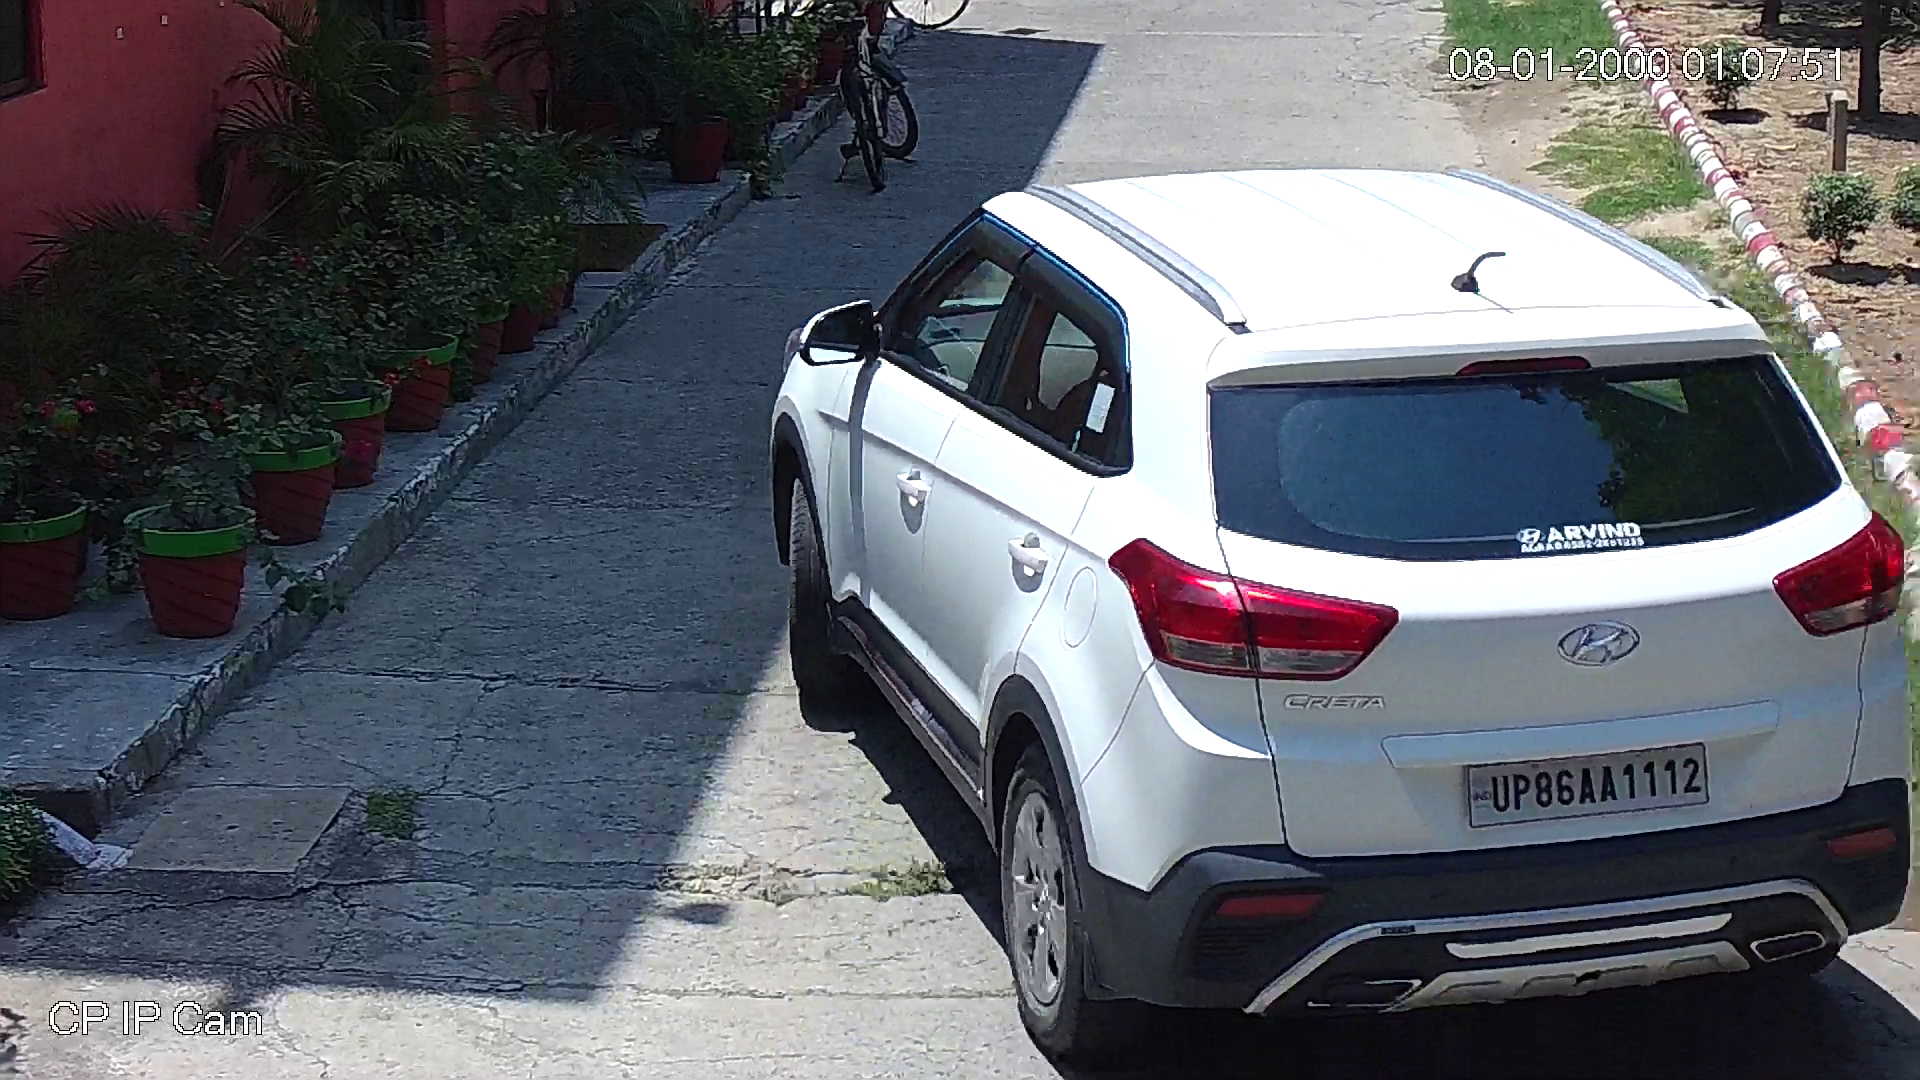plate: (1457, 737, 1717, 834)
